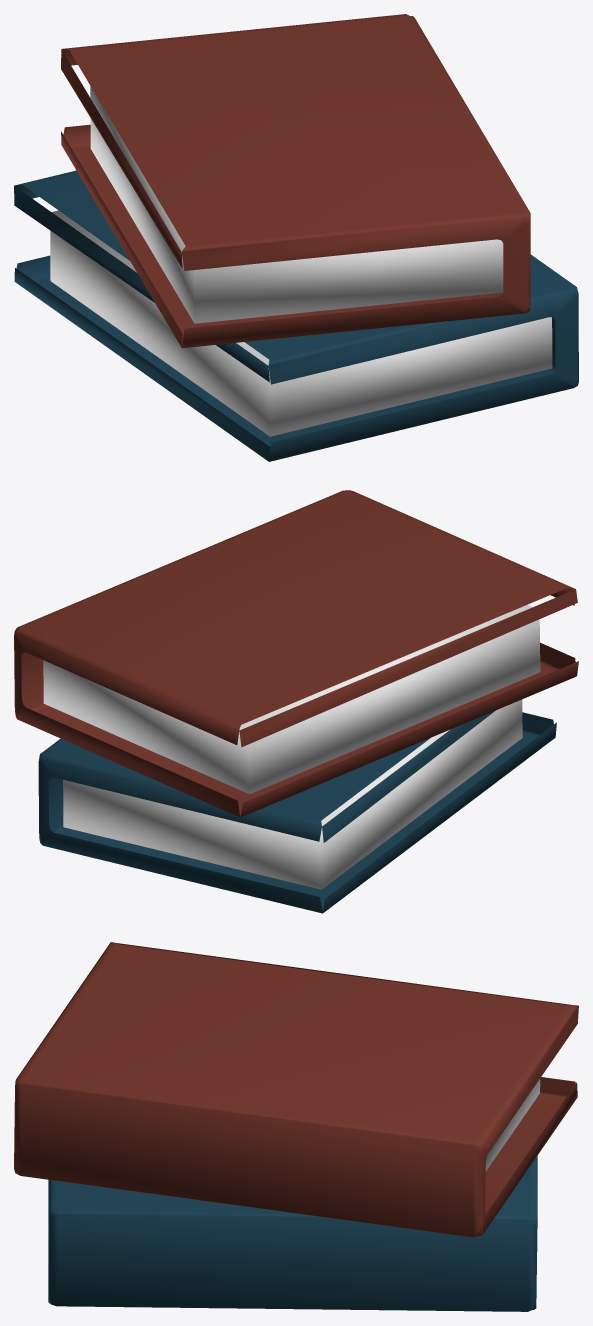
File: desk_on_book.fbx
The picture shows the model from 3 angles, top to bottom: view 1: azimuth 30°, elevation 25°; view 2: azimuth 150°, elevation 25°; view 3: azimuth 270°, elevation 25°; orthographic projection. The views are drawn at different scales.
Visible parts, largest first — view 1: 立方体.007; view 2: 立方体.007; view 3: 立方体.007.
Part boxes in pixels (<box>): 立方体.007: <box>14,14,578,461</box>; 立方体.007: <box>14,490,578,913</box>; 立方体.007: <box>14,942,578,1311</box>.
Bounding box in the file's own units: 16.32 × 7.71 × 19.69.
